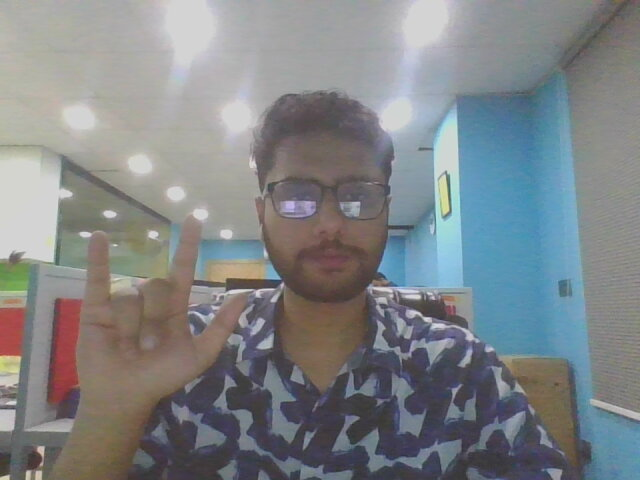iloveyou: (53, 207, 261, 417)
